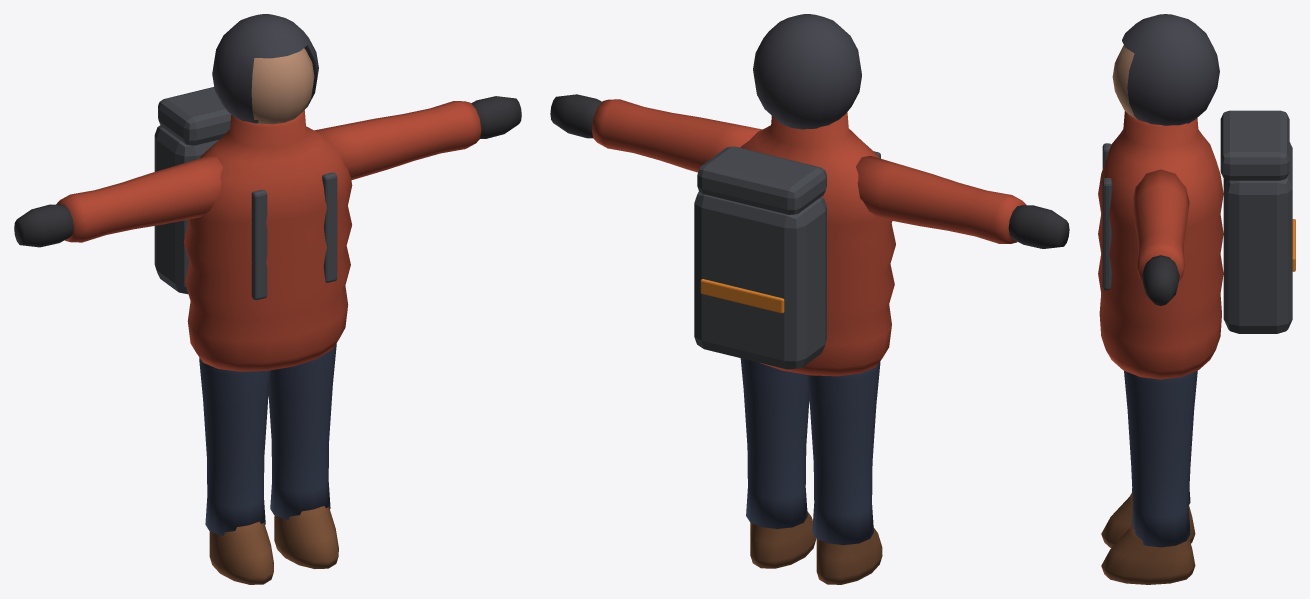
The model's file is climber_tpose.fbx.
3 views of the same model, side by side, from view 1: azimuth 30°, elevation 25°; view 2: azimuth 150°, elevation 25°; view 3: azimuth 270°, elevation 25° (orthographic). The views are drawn at different scales.
Parts seen in each view (by area): view 1: Climber; view 2: Climber; view 3: Climber.
Part boxes in pixels (x1,y1,x2,y2): Climber: [14, 14, 521, 584]; Climber: [550, 14, 1069, 584]; Climber: [1098, 14, 1295, 584].
Size of the model in its own units: 184 by 190 by 63.
